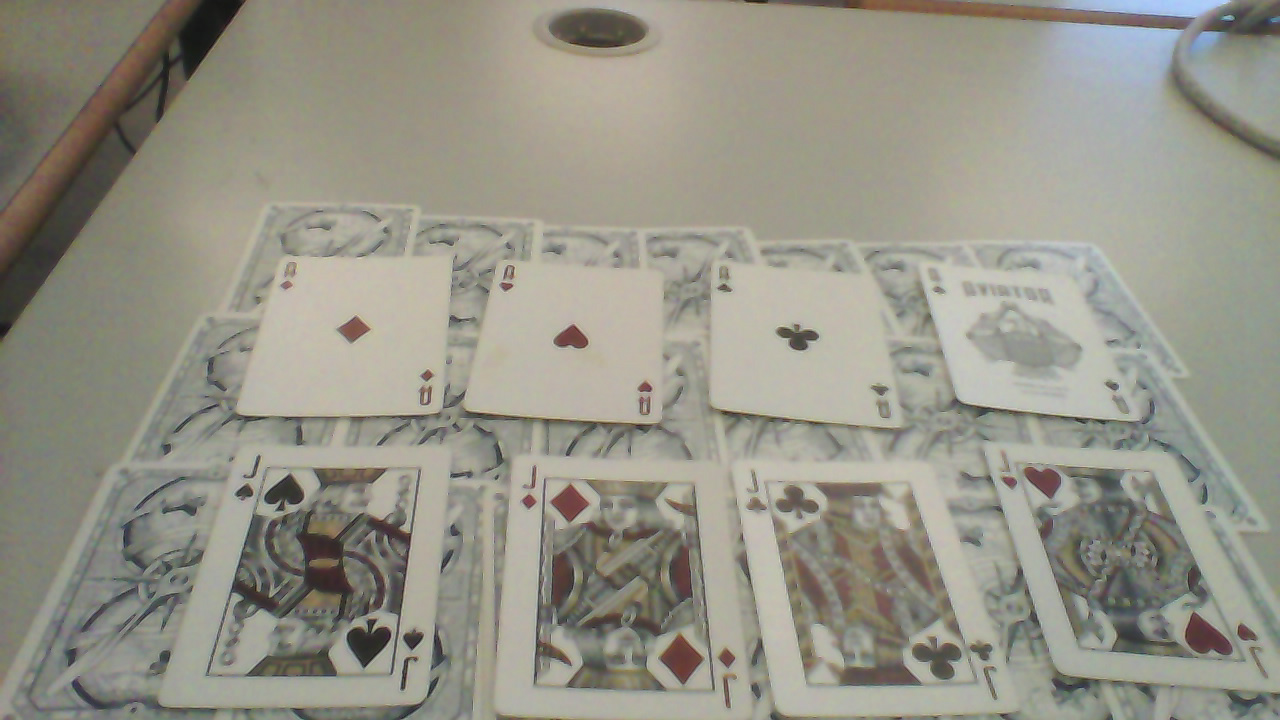ace_clubs: (712, 265, 906, 437)
ace_diamonds: (237, 259, 455, 423)
ace_hearts: (471, 262, 670, 430)
ace_spades: (919, 267, 1141, 425)
jack_diamonds: (512, 461, 747, 720)
jack_hearts: (991, 442, 1280, 694)
jack_spades: (164, 449, 463, 710)
